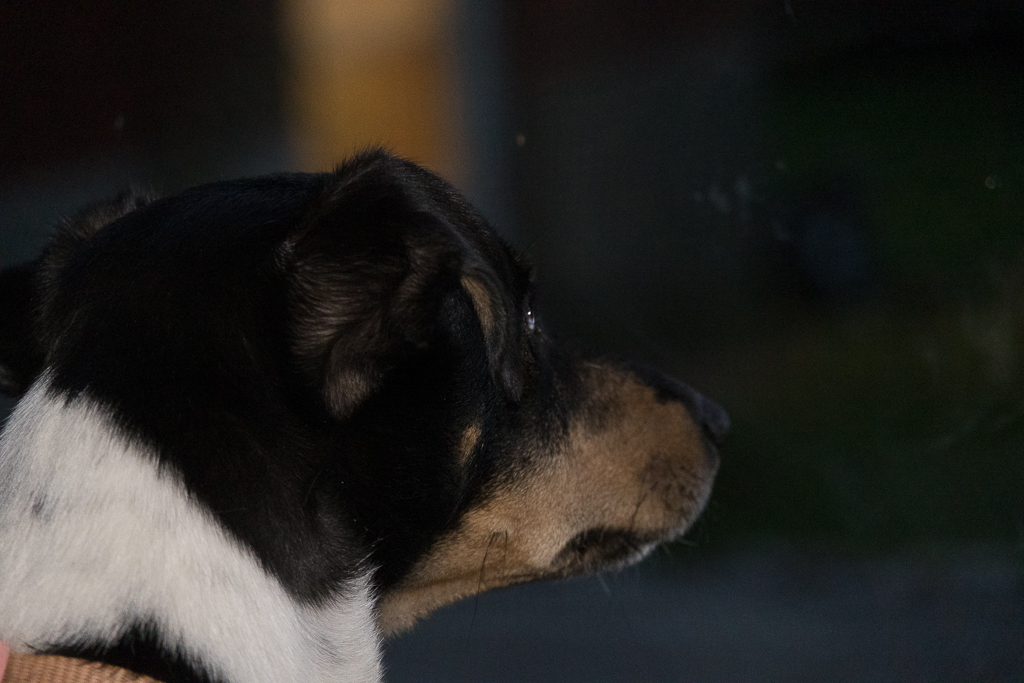Dog: (0, 138, 754, 683)
